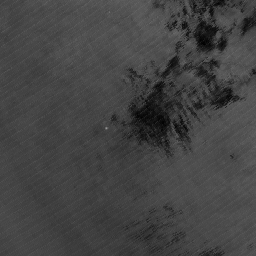Target: (103, 124, 111, 131)
